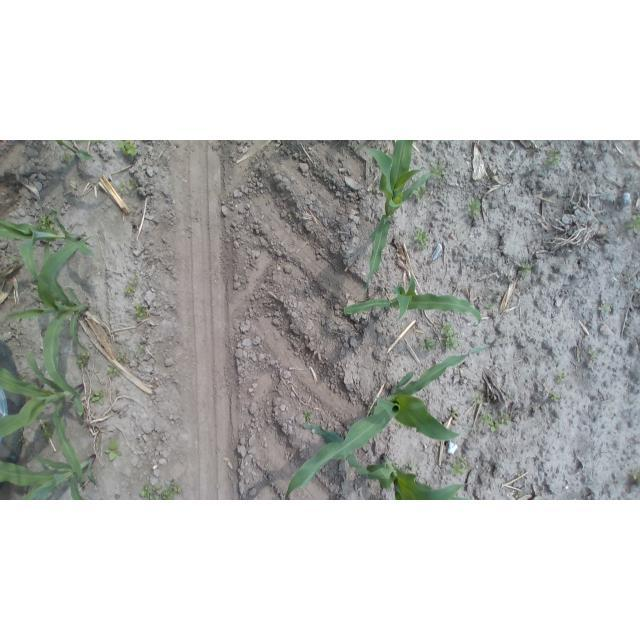Maize: (284, 343, 496, 500), (8, 229, 90, 397), (301, 424, 476, 501), (358, 140, 438, 300), (1, 344, 92, 484), (338, 273, 485, 329), (1, 207, 98, 286), (2, 448, 103, 500), (51, 140, 108, 166)
Weeds: (138, 479, 182, 500), (481, 411, 511, 434), (438, 322, 460, 352), (105, 440, 126, 467), (114, 140, 142, 160), (39, 418, 57, 444), (542, 148, 565, 167), (452, 454, 471, 476), (414, 228, 431, 250), (465, 198, 482, 219), (623, 214, 640, 235), (125, 274, 139, 297), (86, 388, 104, 405), (36, 214, 54, 231), (428, 164, 446, 180), (75, 349, 90, 367), (134, 305, 148, 324), (105, 363, 121, 379), (517, 260, 531, 278), (418, 335, 434, 350), (413, 186, 427, 203), (593, 300, 609, 314), (124, 179, 138, 193), (406, 459, 419, 474), (549, 392, 563, 405), (472, 394, 487, 406), (303, 409, 314, 424), (131, 346, 145, 357), (630, 471, 640, 486), (116, 352, 129, 363), (367, 404, 378, 416), (554, 371, 567, 381), (588, 347, 597, 361), (28, 281, 39, 292), (397, 420, 412, 428), (19, 373, 30, 383), (285, 213, 295, 222), (484, 304, 496, 311)
